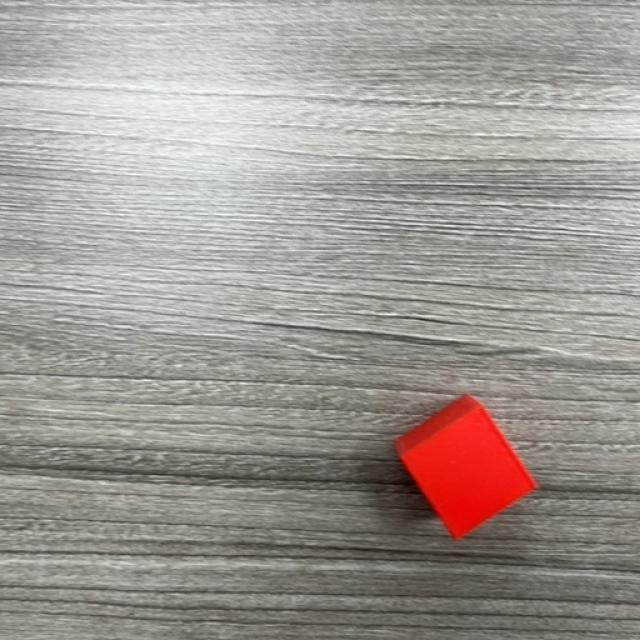Rojo: (394, 395, 539, 540)
